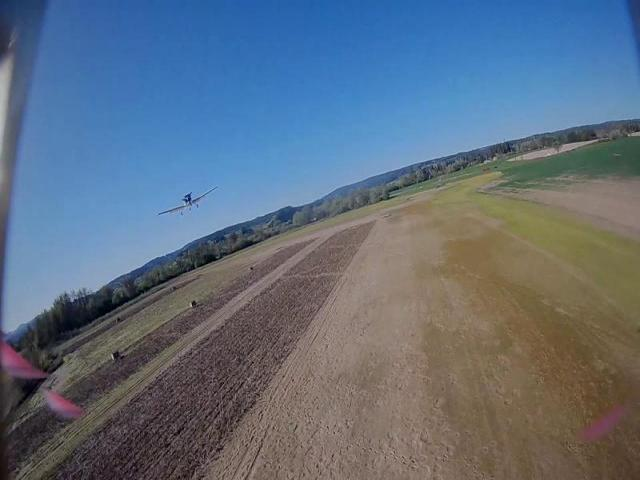hedef: (144, 164, 230, 228)
